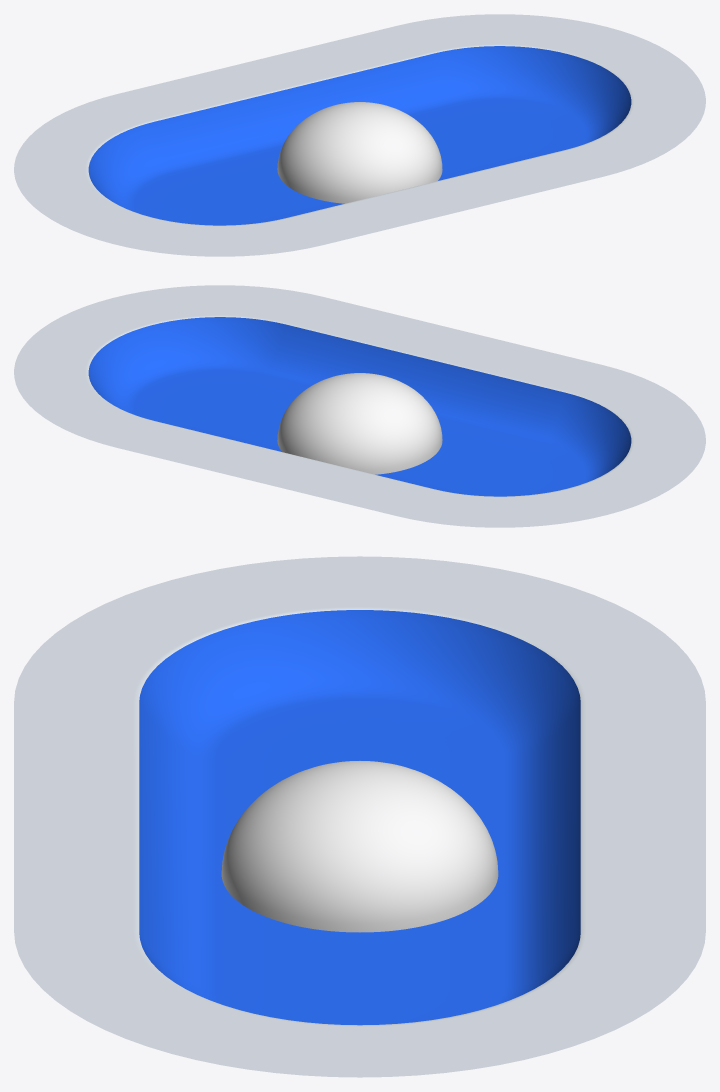
The model's file is switch.glb.
3 views of the same model, one above another, from view 1: azimuth 30°, elevation 25°; view 2: azimuth 150°, elevation 25°; view 3: azimuth 270°, elevation 25° (orthographic). The views are drawn at different scales.
Visible parts, largest first — view 1: Base, Knob; view 2: Base, Knob; view 3: Base, Knob.
Part boxes in pixels (left/top/right/bottom): Base: left=14, top=14, right=705, bottom=256; Knob: left=277, top=102, right=442, bottom=203; Base: left=14, top=285, right=705, bottom=527; Knob: left=277, top=373, right=442, bottom=474; Base: left=14, top=556, right=705, bottom=1077; Knob: left=221, top=761, right=498, bottom=932.
Size of the model in its own units: 3.92 by 0.34 by 2.2.
